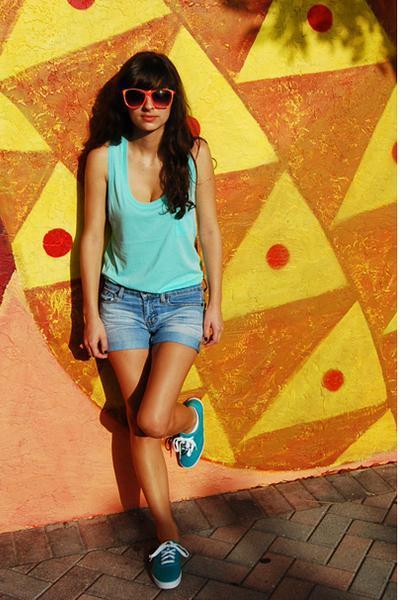shirt: (99, 137, 206, 302)
shoe: (138, 399, 203, 588)
shorts: (98, 276, 203, 349)
sunglass: (125, 78, 151, 105)
